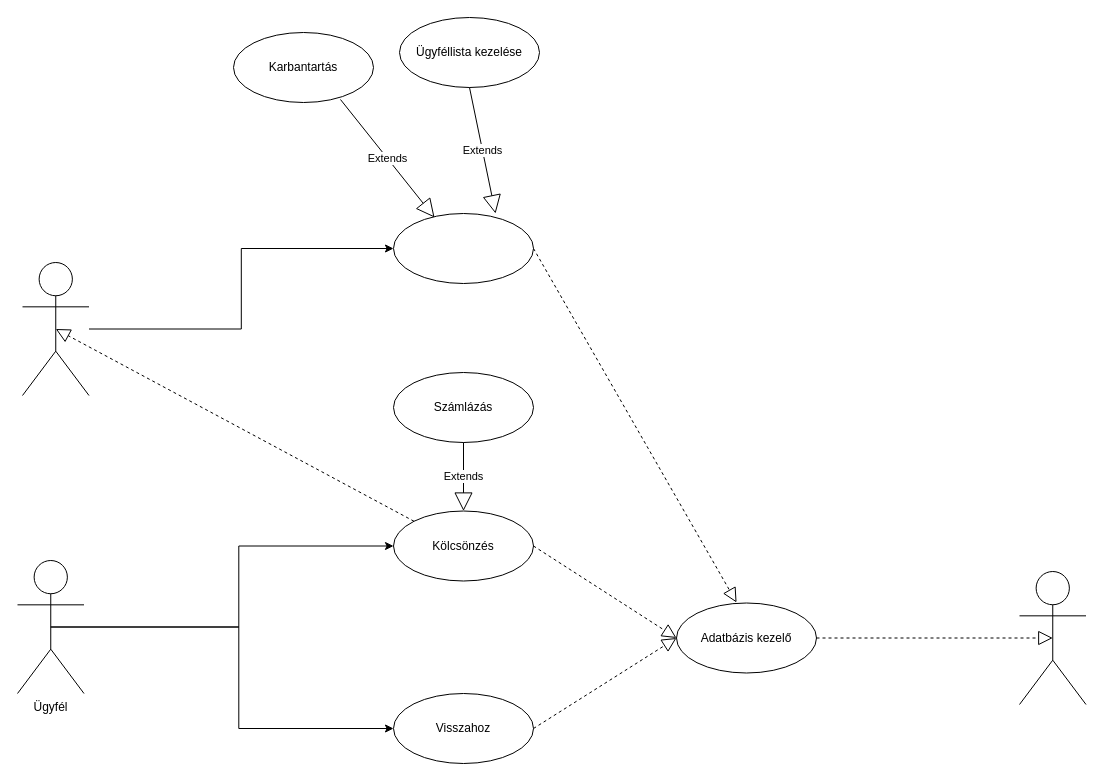
Image size: 1104x781. Some labels were removed from this diagram. The centre of each missing label's shape, as x and y in pixels:
Adatbázis: point (1052, 637)
Kerekpárlista kezelése: point (463, 248)
Kezelőpult: point (55, 329)
